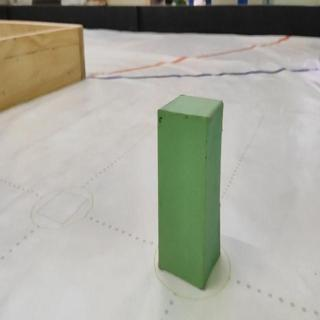greenbox: (155, 92, 226, 293)
